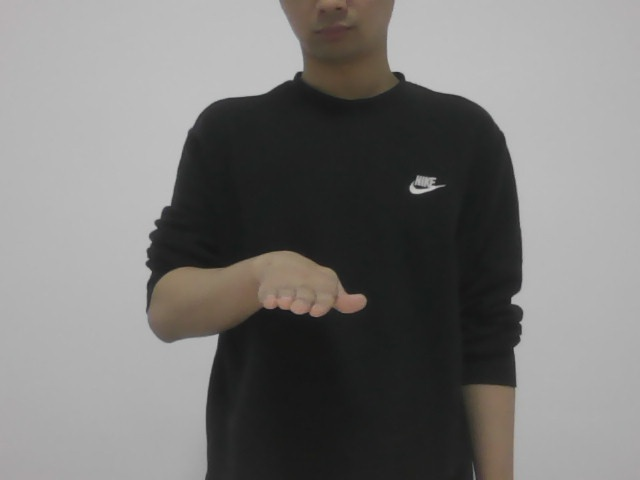slow: (255, 234, 373, 331)
